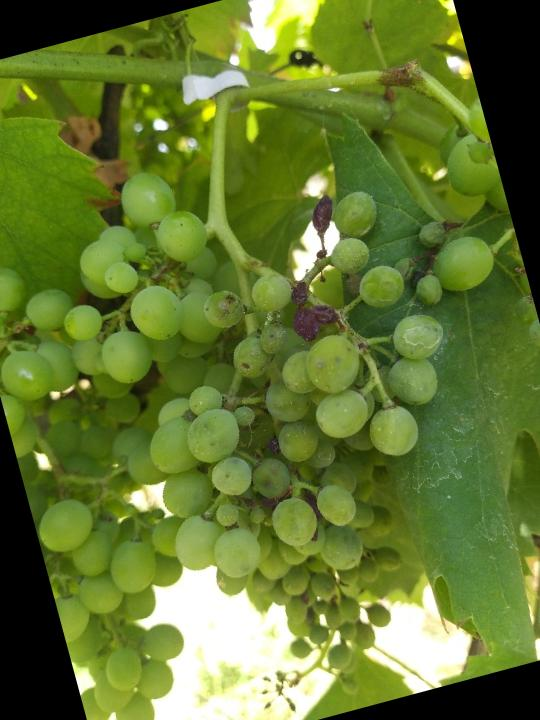grape: (27, 107, 501, 629)
